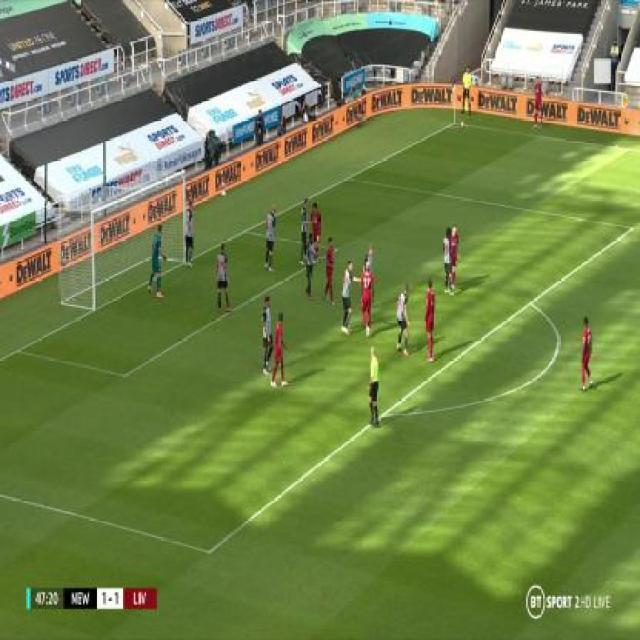ball: (460, 121, 466, 130)
player: (420, 278, 439, 366), (392, 280, 414, 356), (212, 240, 234, 316), (364, 344, 383, 430), (146, 226, 168, 300), (577, 315, 597, 395), (269, 310, 289, 389), (339, 257, 359, 336), (262, 201, 281, 274), (258, 293, 274, 375), (358, 261, 374, 340), (322, 235, 339, 306), (303, 234, 320, 300), (182, 199, 198, 267), (448, 222, 462, 296), (296, 199, 310, 264), (440, 227, 453, 296), (310, 202, 324, 259), (460, 64, 473, 120), (531, 79, 545, 130), (365, 240, 378, 268)
